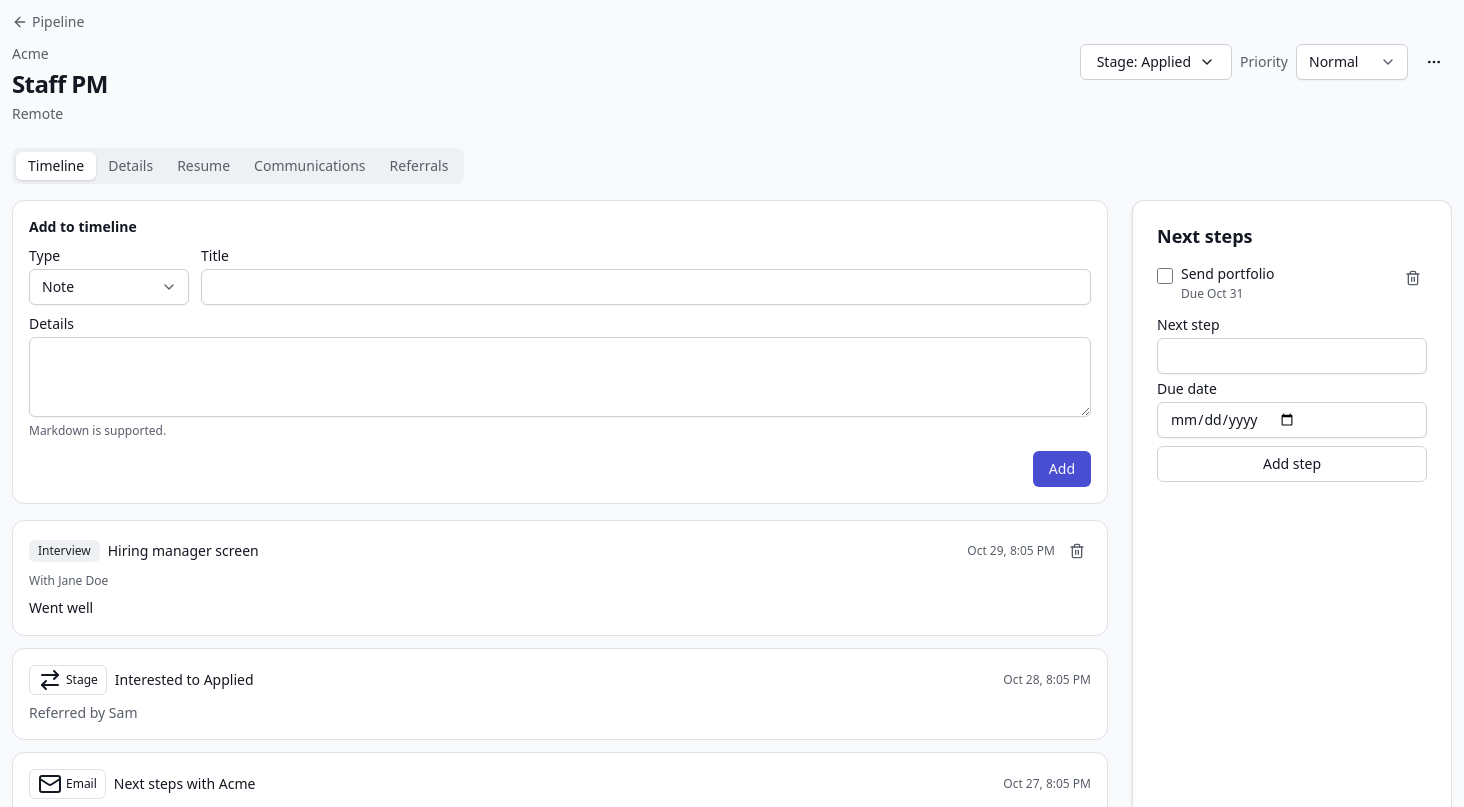
OpportunityDetail › lists linked messages on the Communications tab and merges them into the timeline
Expected: the text "Next steps with Acme" is shown, top-left (114, 774), bottom-right (255, 794)
Click the tab "Communications".
click(310, 166)  # box top-left (242, 152), bottom-right (378, 180)
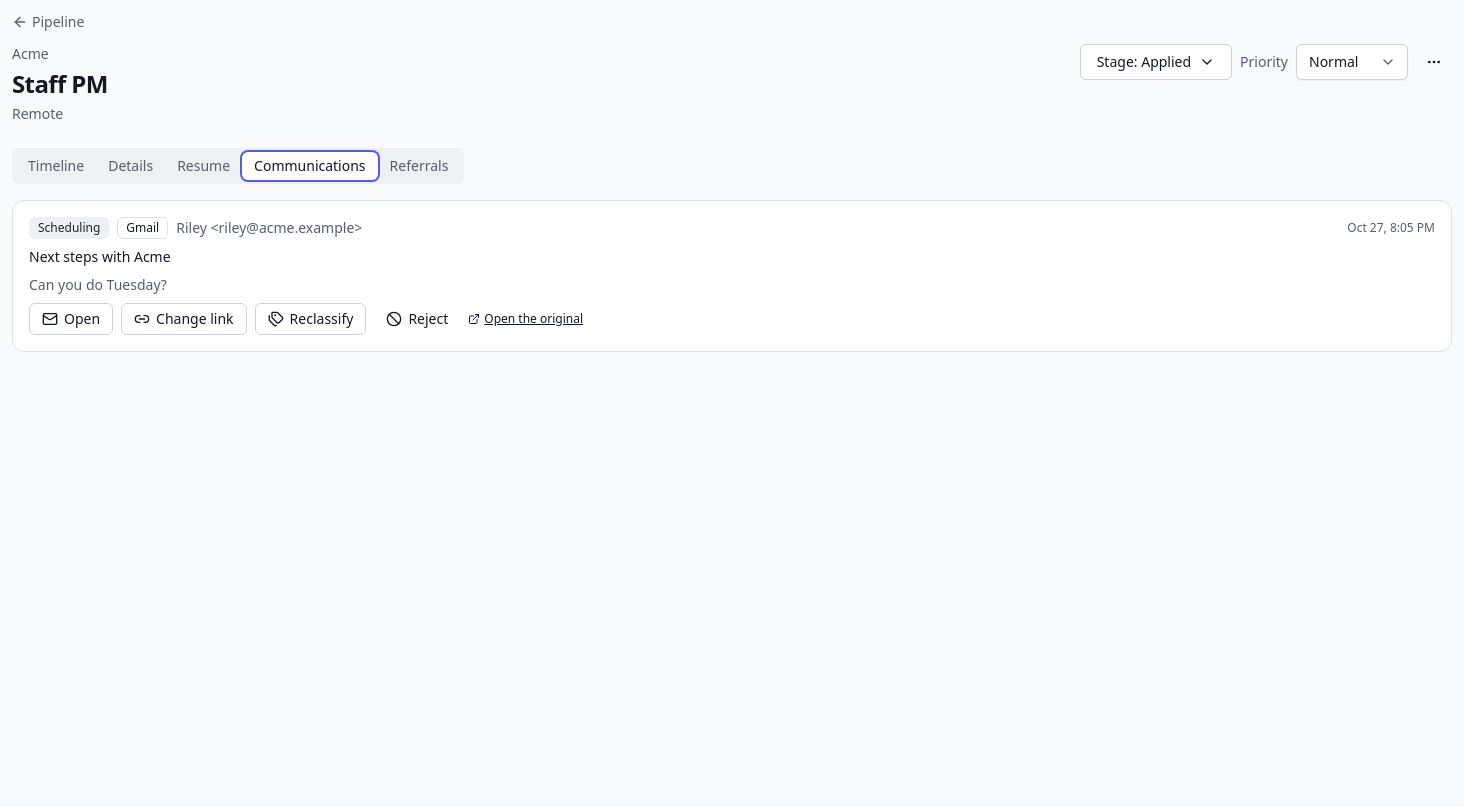
Expected: the list item named "Next steps with Acme" is shown, top-left (12, 200), bottom-right (1452, 352)
